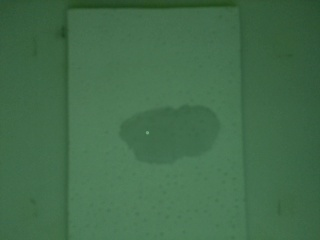Water_detected: (134, 104, 211, 163)
